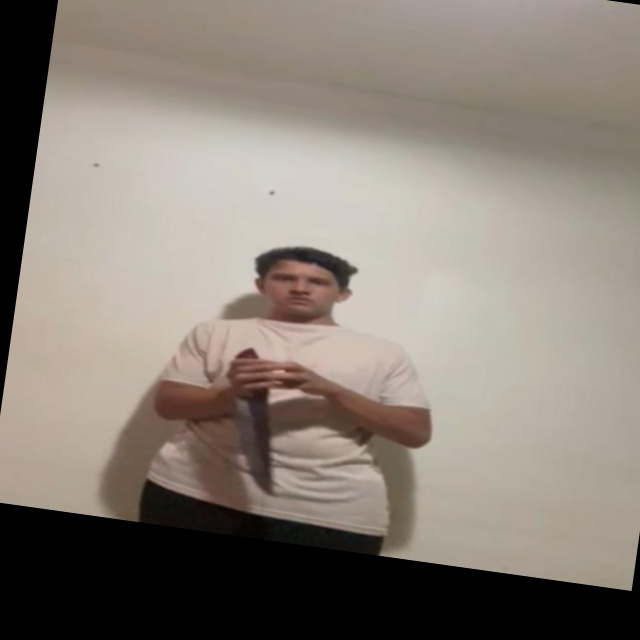Sharp-Object: (222, 395, 285, 494)
